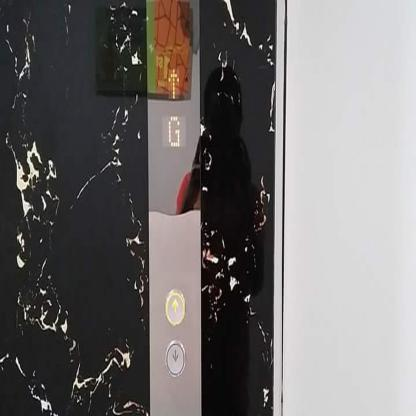down: (164, 337, 187, 378)
led: (159, 42, 187, 154)
up: (163, 286, 186, 326)
